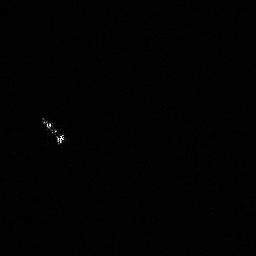ship: (38, 112, 68, 148)
